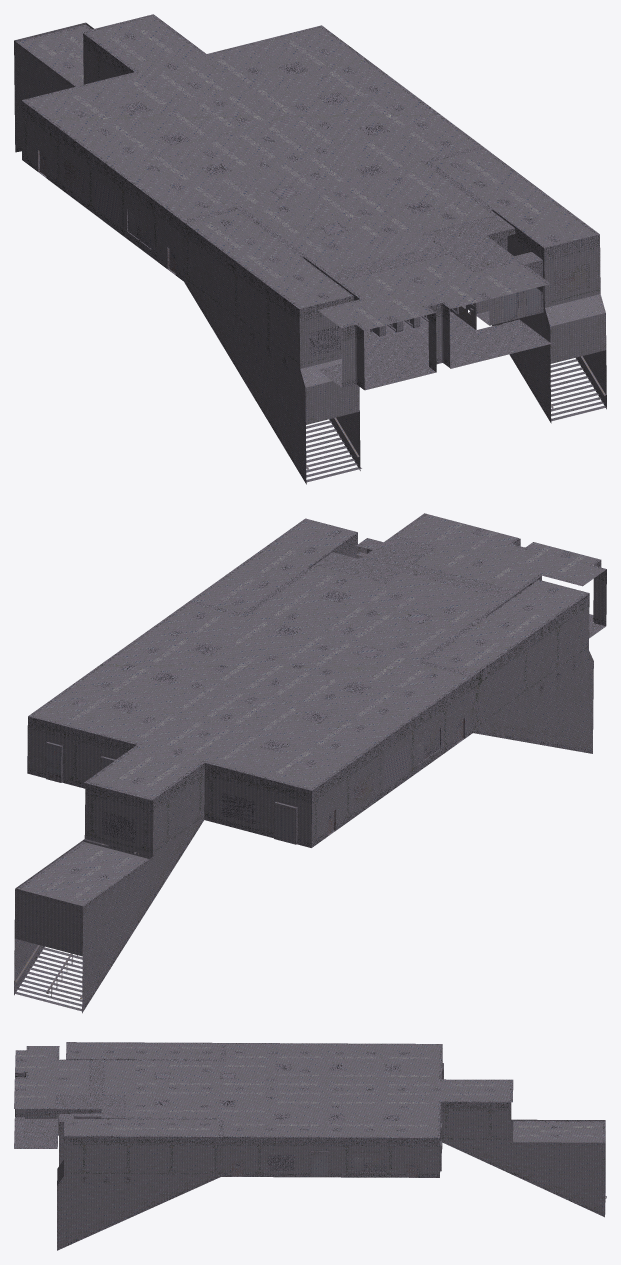
File: subways_station_re3.fbx
3 renders of one model, top to bottom at view 1: azimuth 30°, elevation 25°; view 2: azimuth 150°, elevation 25°; view 3: azimuth 270°, elevation 25°, orthographic. The views are drawn at different scales.
Parts seen in each view (by area): view 1: BackSide, FrontSide; view 2: BackSide, FrontSide; view 3: BackSide, FrontSide.
Part boxes in pixels (bbox=[...]): BackSide: bbox=[14, 14, 606, 484]; FrontSide: bbox=[14, 15, 606, 483]; BackSide: bbox=[14, 513, 606, 1012]; FrontSide: bbox=[14, 513, 606, 1010]; BackSide: bbox=[14, 1042, 606, 1250]; FrontSide: bbox=[14, 1042, 605, 1247].
Size of the model in its own units: 2012 by 1108 by 5115.
